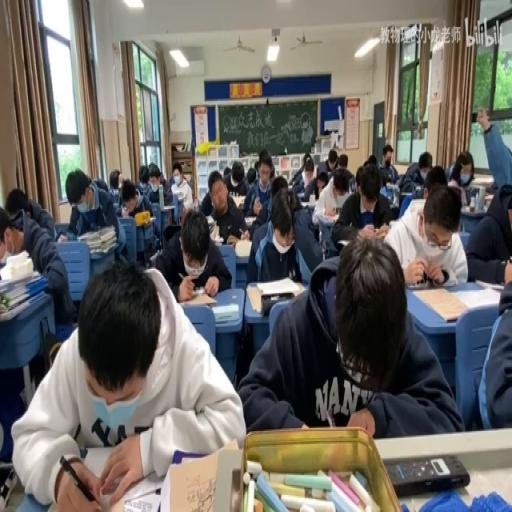calculator: (163, 439, 240, 512), (456, 284, 502, 308), (411, 268, 458, 288), (0, 266, 38, 290), (256, 274, 301, 294), (178, 288, 218, 306), (210, 302, 238, 322), (244, 283, 262, 311), (172, 192, 186, 223), (234, 238, 252, 258), (314, 209, 340, 222), (0, 252, 14, 266), (206, 218, 216, 234), (243, 215, 256, 226), (299, 199, 312, 209), (484, 193, 494, 205), (211, 235, 224, 243), (296, 189, 306, 199), (400, 189, 414, 196), (160, 204, 174, 210), (336, 238, 350, 244), (112, 188, 118, 202), (386, 181, 395, 189)
paper: (14, 256, 243, 506), (238, 238, 458, 436), (1, 196, 74, 327), (461, 108, 512, 281), (384, 182, 467, 284), (248, 185, 322, 283), (155, 206, 229, 299), (65, 168, 125, 263), (330, 162, 392, 253), (117, 176, 152, 232), (446, 152, 474, 206), (220, 156, 249, 206), (397, 151, 429, 196), (142, 160, 172, 204), (301, 162, 330, 202), (376, 144, 398, 186), (269, 175, 288, 196), (170, 161, 185, 186), (258, 148, 272, 171), (109, 168, 121, 190), (333, 179, 346, 198), (354, 165, 363, 192), (94, 176, 108, 192), (288, 168, 301, 185), (485, 179, 498, 196), (245, 165, 256, 185), (327, 150, 338, 170), (138, 166, 149, 185), (222, 165, 232, 181), (414, 182, 424, 196), (338, 154, 347, 169), (366, 155, 376, 165), (157, 170, 164, 184)
person: (386, 454, 470, 496), (261, 292, 295, 314), (470, 111, 477, 122)
